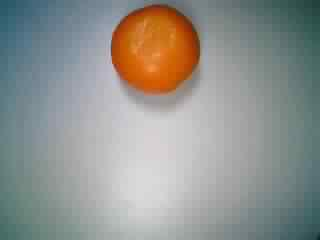orange: (107, 2, 202, 96)
